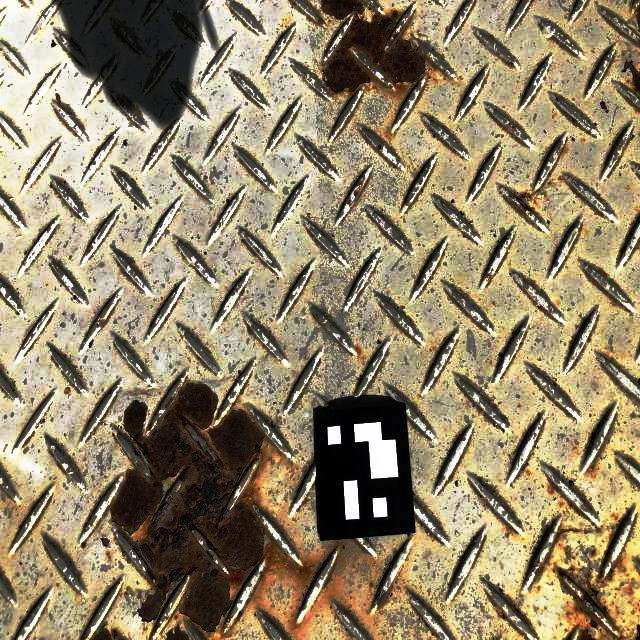Corrosion: (110, 383, 264, 632), (315, 0, 431, 98), (557, 545, 640, 640), (508, 179, 553, 217), (87, 616, 129, 640), (375, 568, 399, 609), (621, 58, 640, 99), (555, 526, 578, 544), (165, 626, 189, 640), (351, 185, 363, 207), (634, 0, 640, 37), (586, 459, 597, 479), (606, 529, 615, 543), (497, 605, 504, 617), (548, 485, 554, 494), (509, 61, 516, 67)
